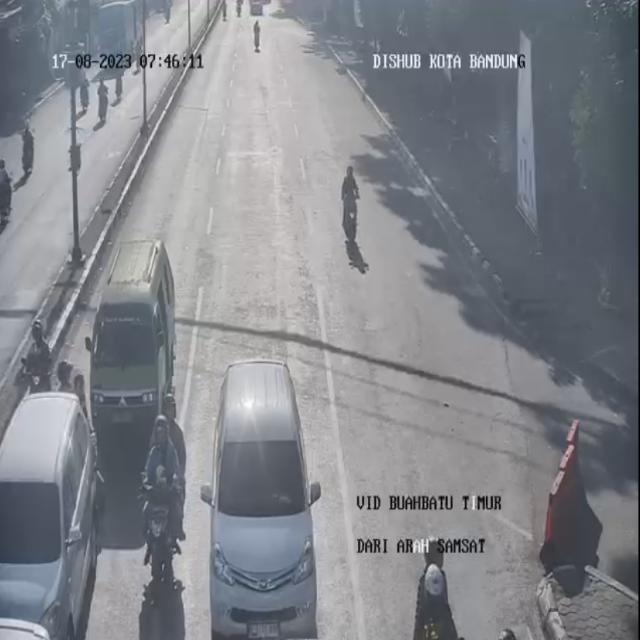cars: (209, 354, 315, 640), (0, 392, 101, 640), (86, 236, 181, 435)
motorcycle: (142, 403, 186, 533), (412, 535, 463, 640), (336, 164, 371, 268)
